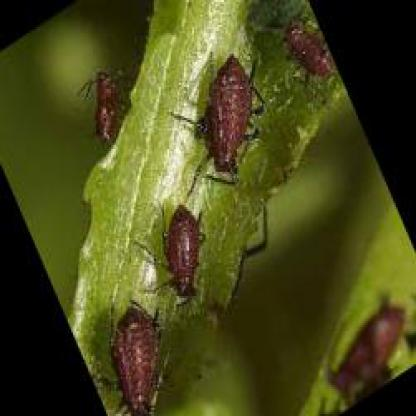uroleucon compositae: (201, 52, 266, 175), (163, 205, 200, 299)
